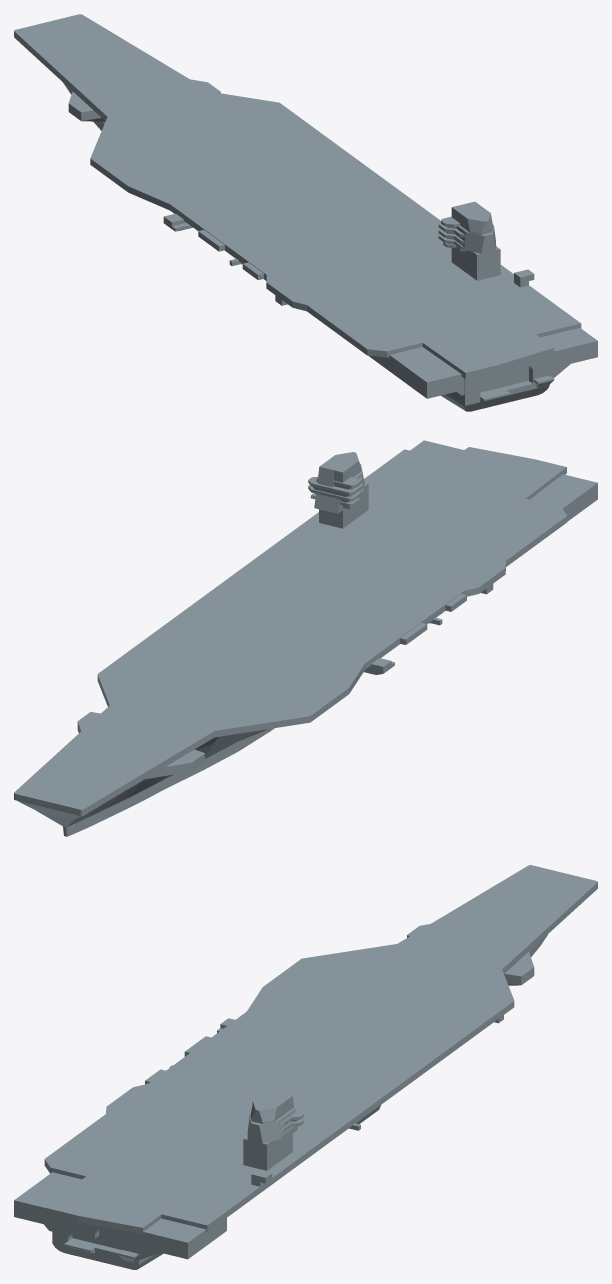
3 renders of one model, top to bottom at view 1: azimuth 30°, elevation 25°; view 2: azimuth 150°, elevation 25°; view 3: azimuth 330°, elevation 25°, orthographic.
Bounding box in the file's own units: 13.87 × 6.58 × 54.48.
